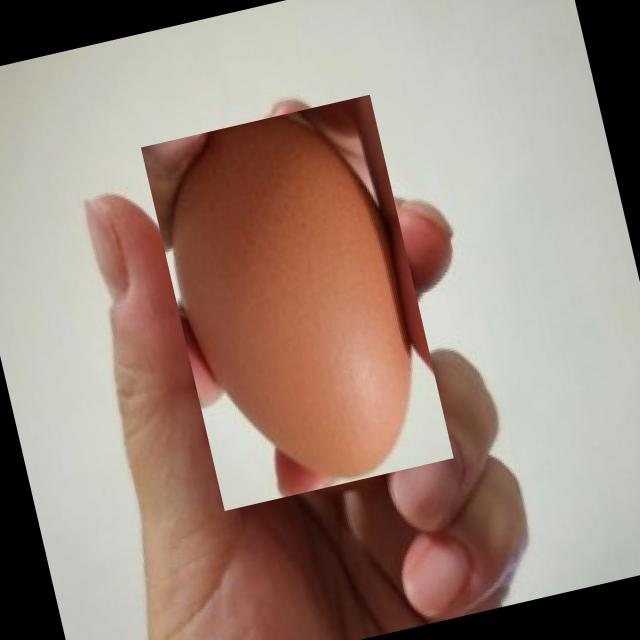eggs: (140, 93, 454, 511)
